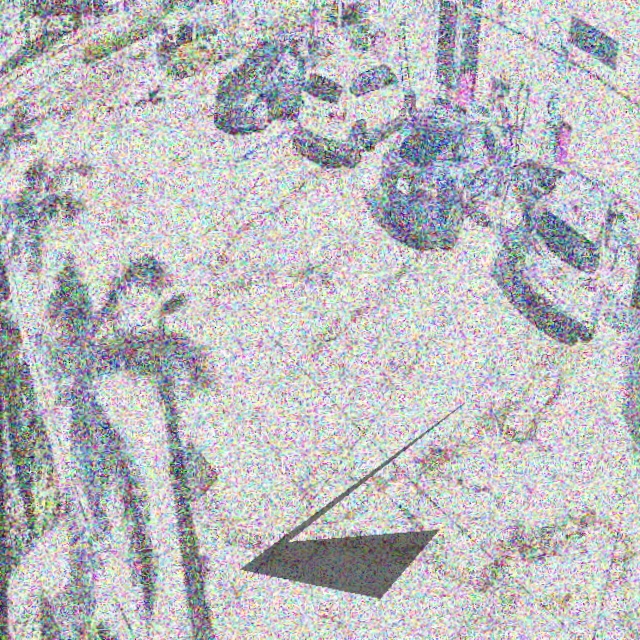Car: (374, 94, 516, 252), (298, 44, 421, 171)
